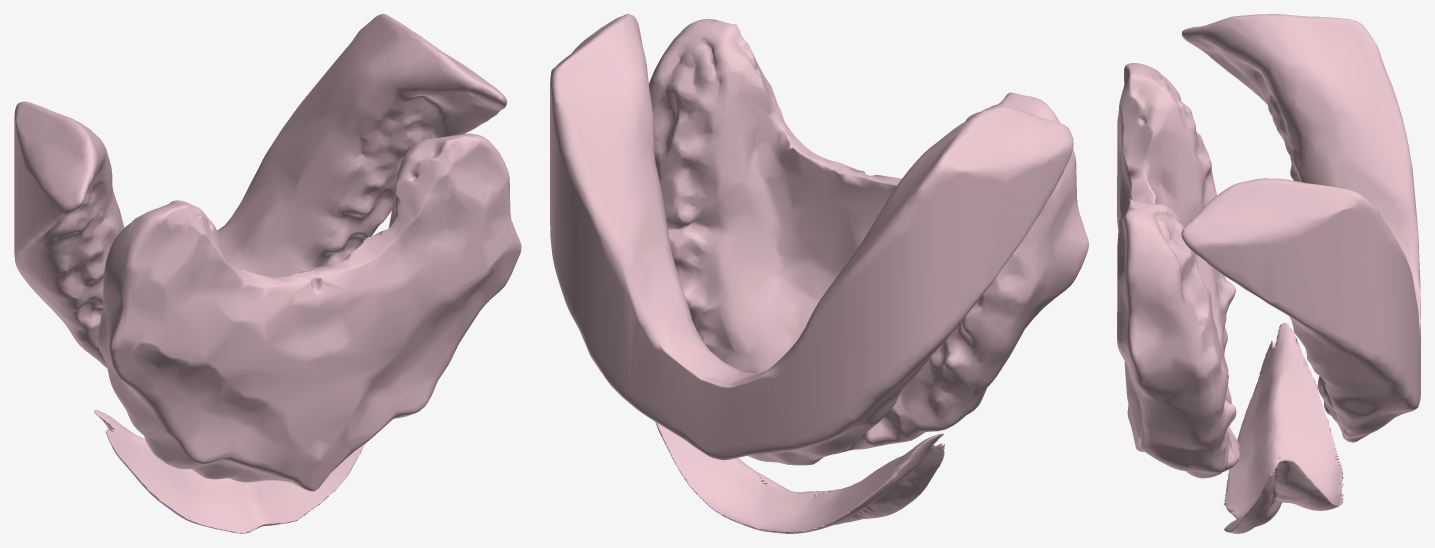
Rendered from dents-organes.glb.
3 renders of one model, left to right at view 1: azimuth 30°, elevation 25°; view 2: azimuth 150°, elevation 25°; view 3: azimuth 270°, elevation 25°, orthographic. The views are drawn at different scales.
Parts seen in each view (by area): view 1: gencive_maxillaire, gencive_mandibulaire, levres; view 2: gencive_mandibulaire, gencive_maxillaire, levres; view 3: gencive_mandibulaire, gencive_maxillaire, levres.
Part boxes in pixels (<box>): gencive_maxillaire: <box>98,133,521,491</box>; gencive_mandibulaire: <box>14,14,507,367</box>; levres: <box>94,410,365,533</box>; gencive_mandibulaire: <box>550,14,1073,465</box>; gencive_maxillaire: <box>649,18,1088,454</box>; levres: <box>655,422,944,533</box>; gencive_mandibulaire: <box>1181,14,1420,442</box>; gencive_maxillaire: <box>1117,63,1239,478</box>; levres: <box>1224,322,1343,533</box>.
Size of the model in its own units: 71.2 by 66.68 by 43.19.
